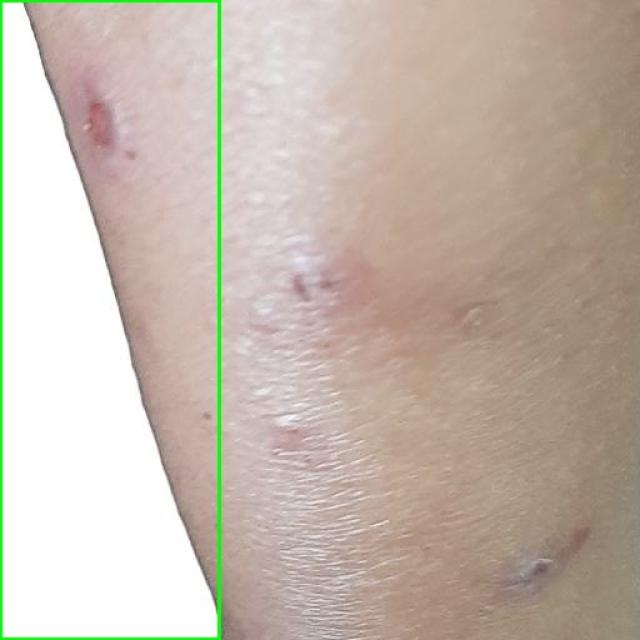Eczema: (0, 0, 219, 639)
